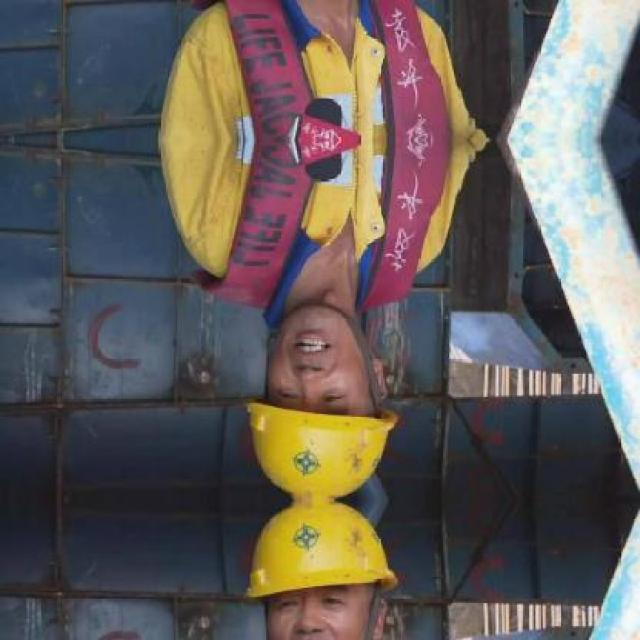safetyhelmet: (246, 346, 398, 502)
